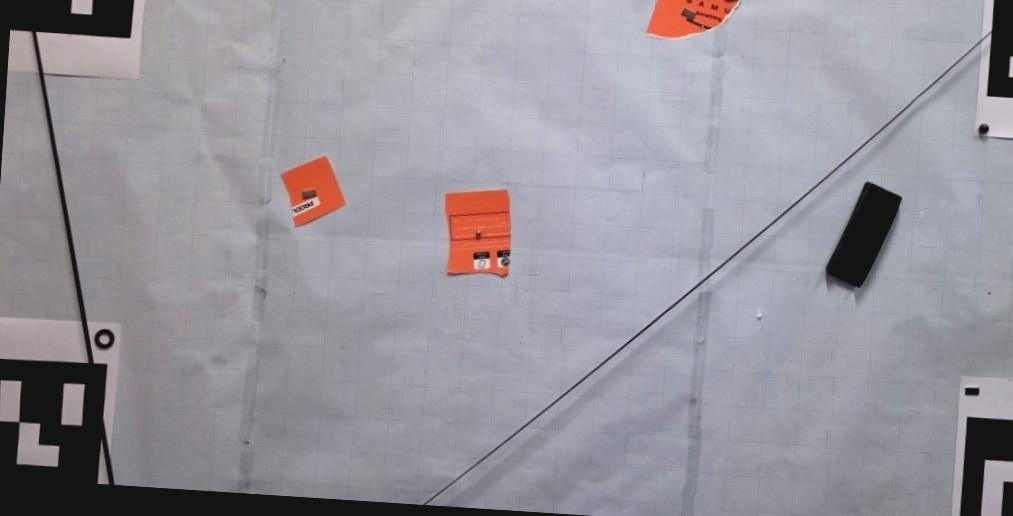obstacle: (826, 182, 903, 287), (444, 188, 512, 277), (280, 156, 346, 228), (645, 0, 740, 40)
